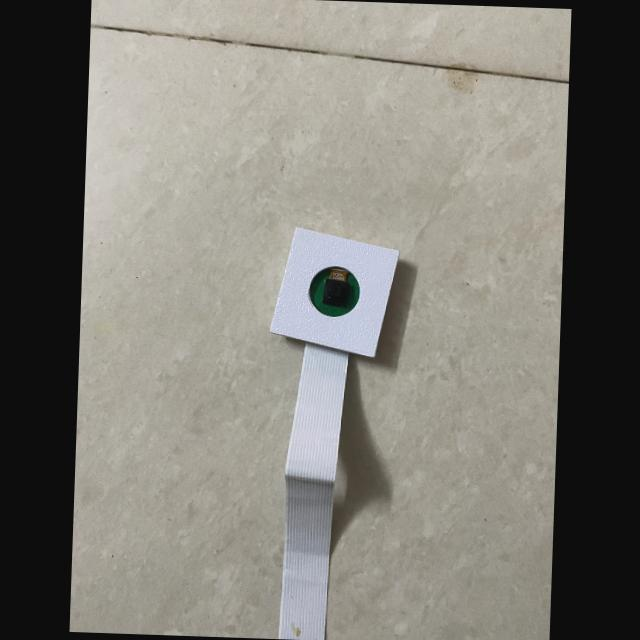RASPBERY PI CAM ENCLOSURE: (268, 226, 400, 358)
